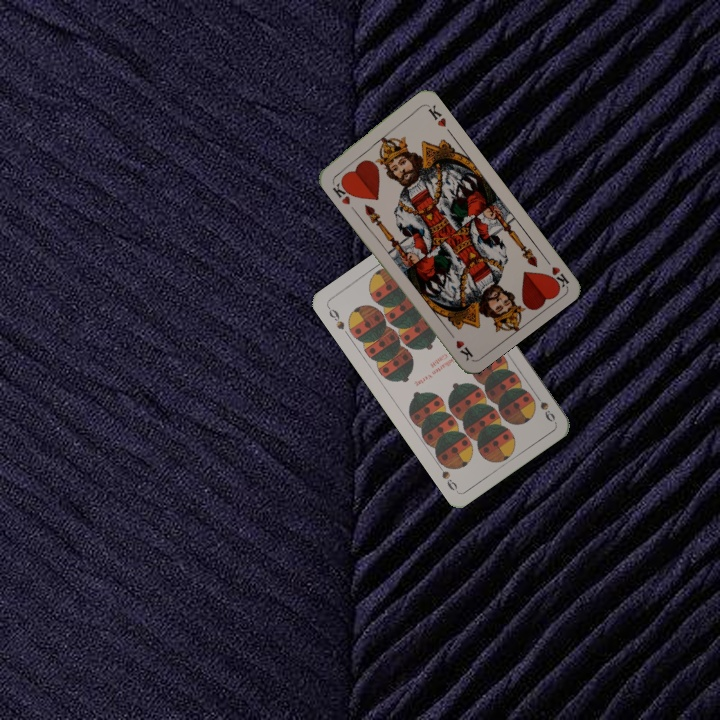HK: (539, 252, 571, 291), (328, 176, 357, 207)
S9: (530, 388, 558, 424), (323, 303, 347, 332)
